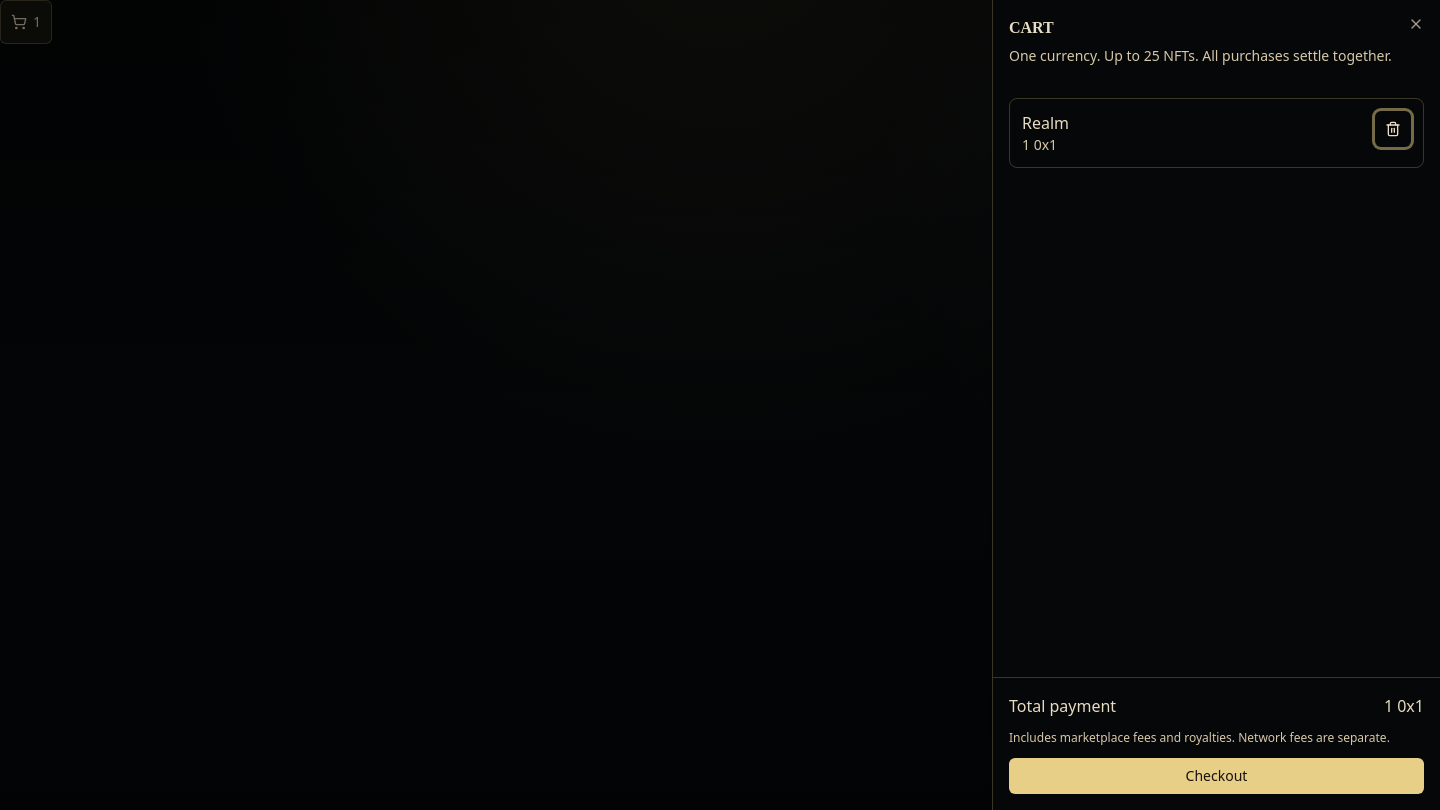
it: retains cart and displays per-order preflight failures
Click the button "Checkout" at (1216, 776), box top-left (1009, 758), bottom-right (1424, 794)
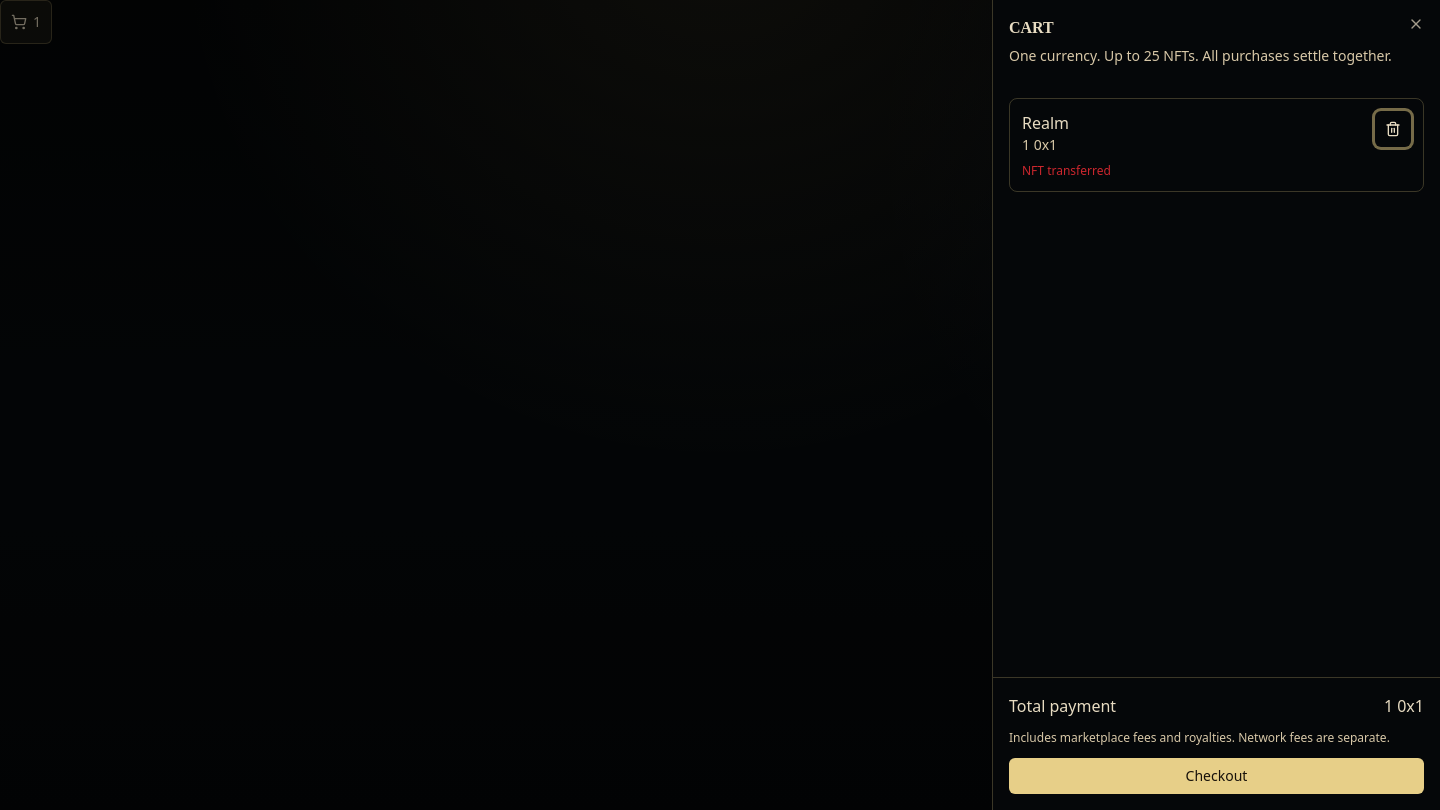
Expected: the text "NFT transferred" is shown, top-left (1022, 162), bottom-right (1111, 179)
